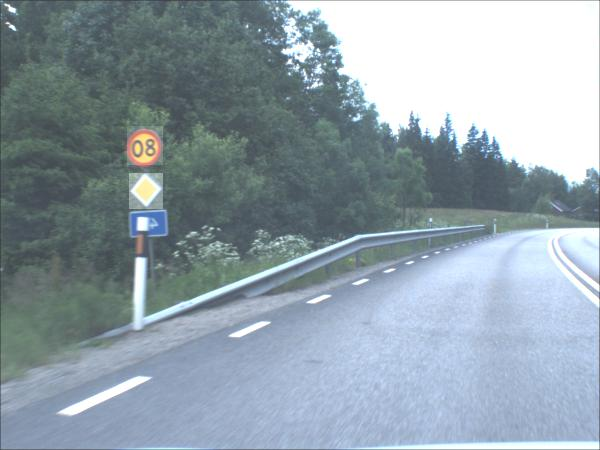80_SIGN: (127, 128, 164, 168)
PRIORITY_ROAD: (129, 174, 164, 211)
